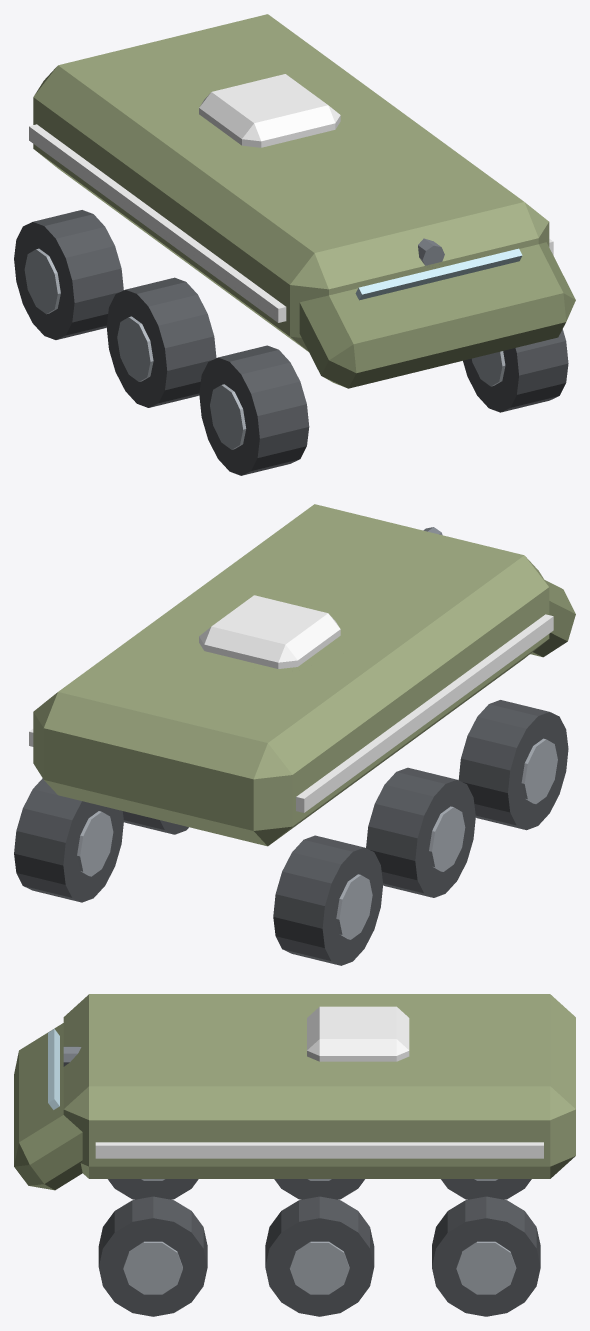
Rendered from armoredcar.glb.
3 renders of one model, top to bottom at view 1: azimuth 30°, elevation 25°; view 2: azimuth 150°, elevation 25°; view 3: azimuth 270°, elevation 25°, orthographic. The views are drawn at different scales.
Visible parts, largest first — view 1: main, turret; view 2: main, turret; view 3: main, turret.
Boxes of the visible parts, x1,y1,x2,y2 form: main: (14,14,575,475); turret: (199,74,444,267); main: (14,504,575,965); turret: (199,527,442,668); main: (14,994,575,1316); turret: (63,1006,409,1066).
Size of the model in its own units: 0.51 by 0.39 by 0.8773.
